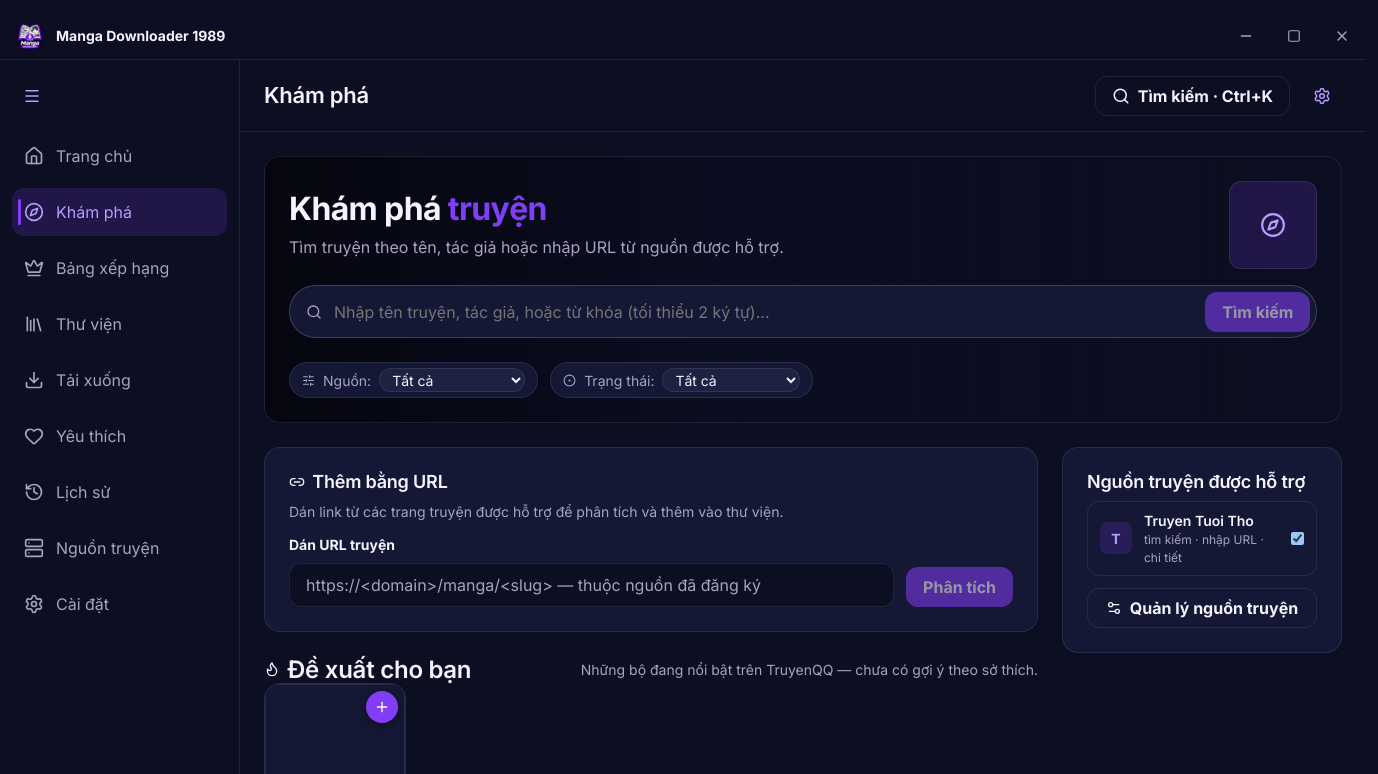
Test: T05 Discover Phase 1 panels › saves a featured suggestion through the quick add button
This screenshot has width=1378, height=774.
Check: the text "chưa có gợi ý theo sở thích" is shown, box [581,661,1038,678]
Click the button named "Thêm Võ Luyện Đỉnh Phong vào thư viện": (382, 707) [366,691,398,723]
(page scrolled)
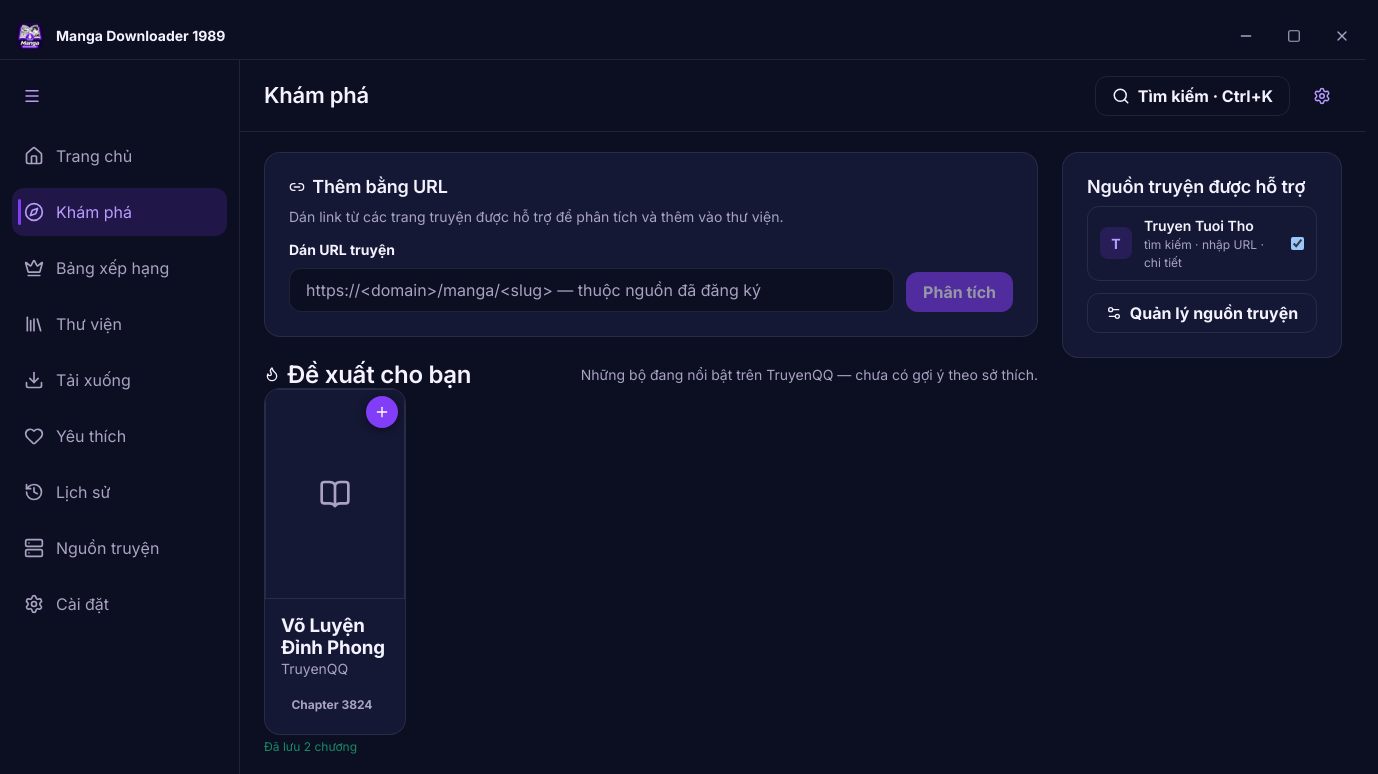
Check: the text "Đã lưu 2 chương" is shown, box [264,740,357,754]
